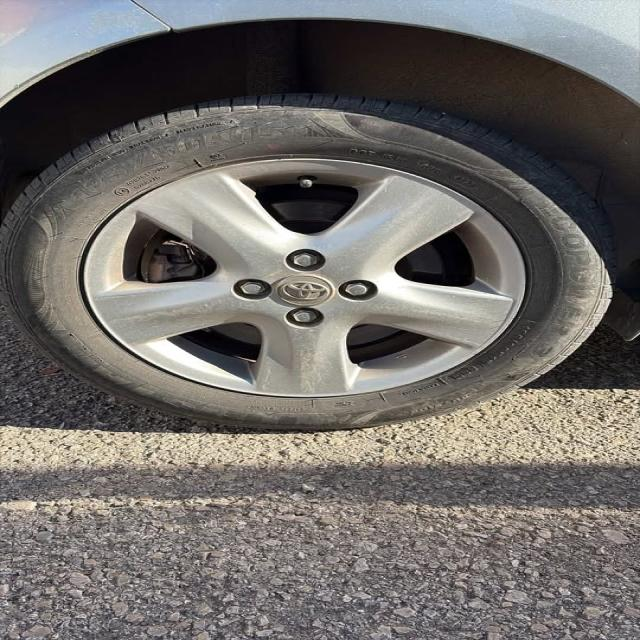jante: (80, 158, 526, 398)
parafuso: (290, 251, 319, 267), (343, 282, 372, 298), (241, 282, 267, 296), (293, 310, 317, 324)
roda: (0, 91, 619, 429)
